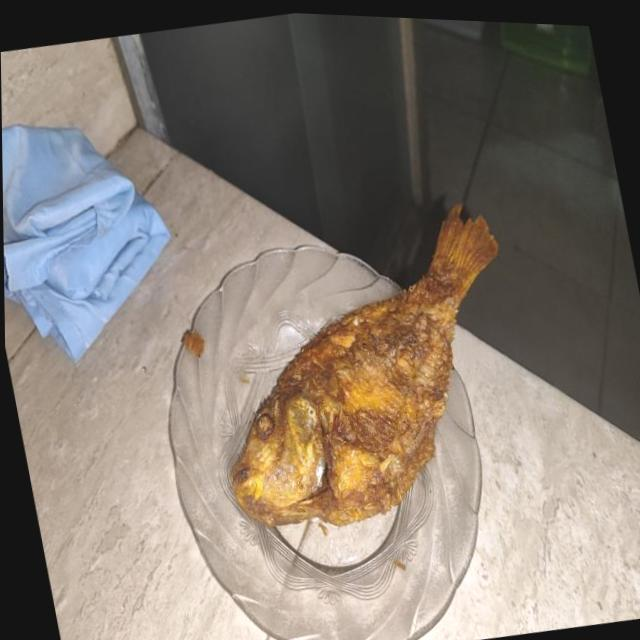ikan_mujair: (230, 204, 497, 526)
